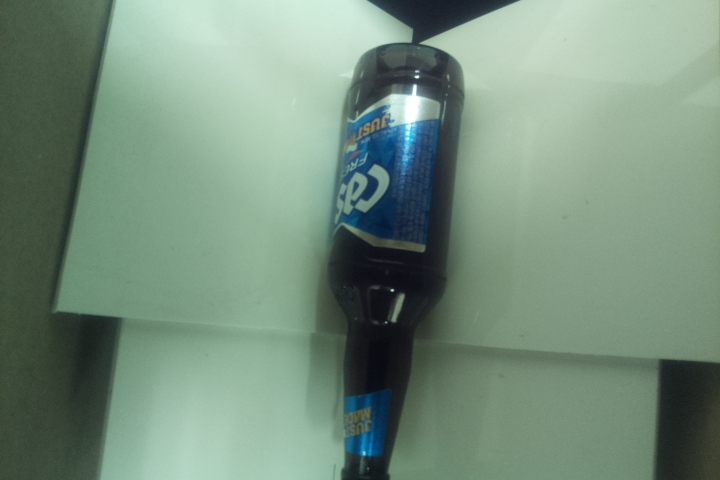makju: (322, 42, 465, 480)
